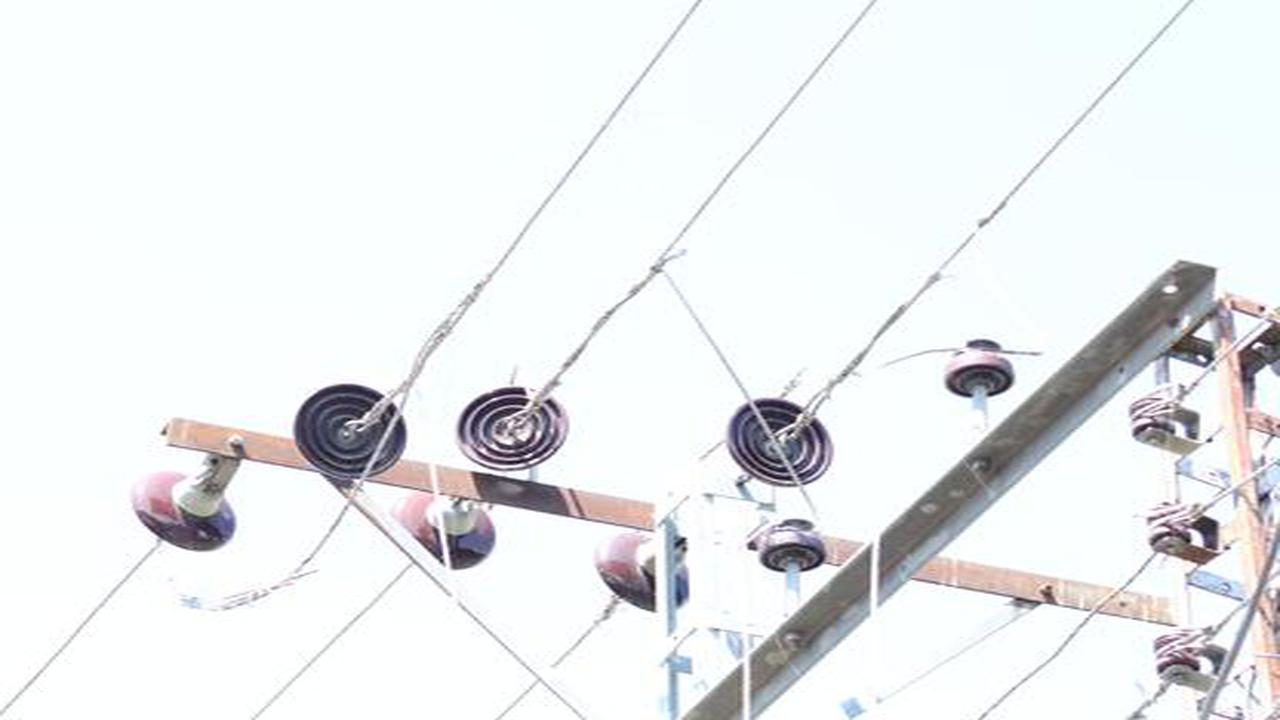insulator_disc: (291, 379, 411, 483), (130, 466, 242, 558), (725, 394, 836, 486), (454, 384, 573, 469), (393, 492, 499, 577), (591, 528, 696, 613)
insulator_pin: (941, 335, 1016, 400), (756, 514, 827, 575)
